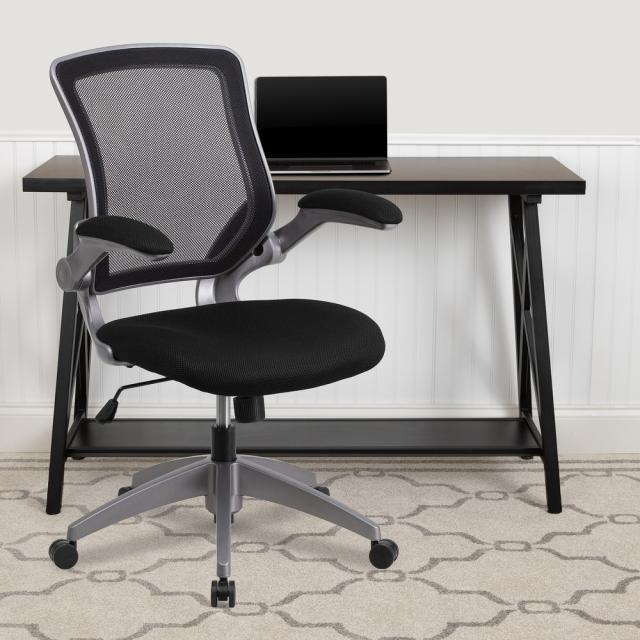chair: (27, 29, 423, 640)
